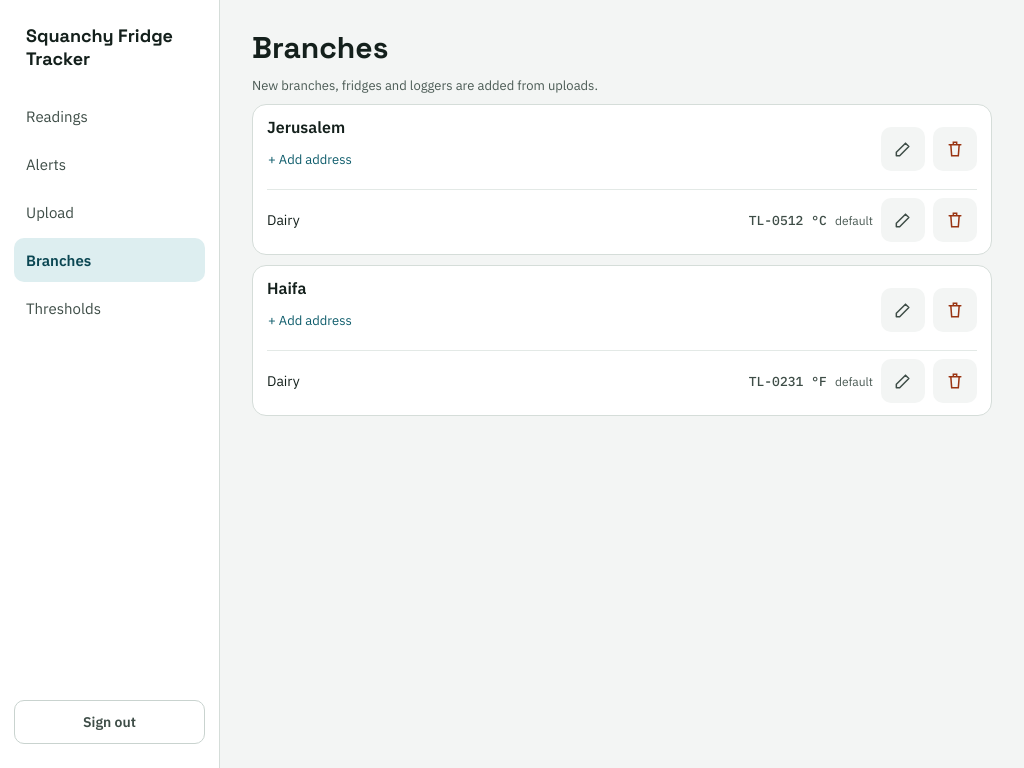
Test: BranchesPage delete branch › deletes after the user confirms and reloads the list
Click the button named "Delete Haifa" at (955, 310), box [933, 288, 977, 332]
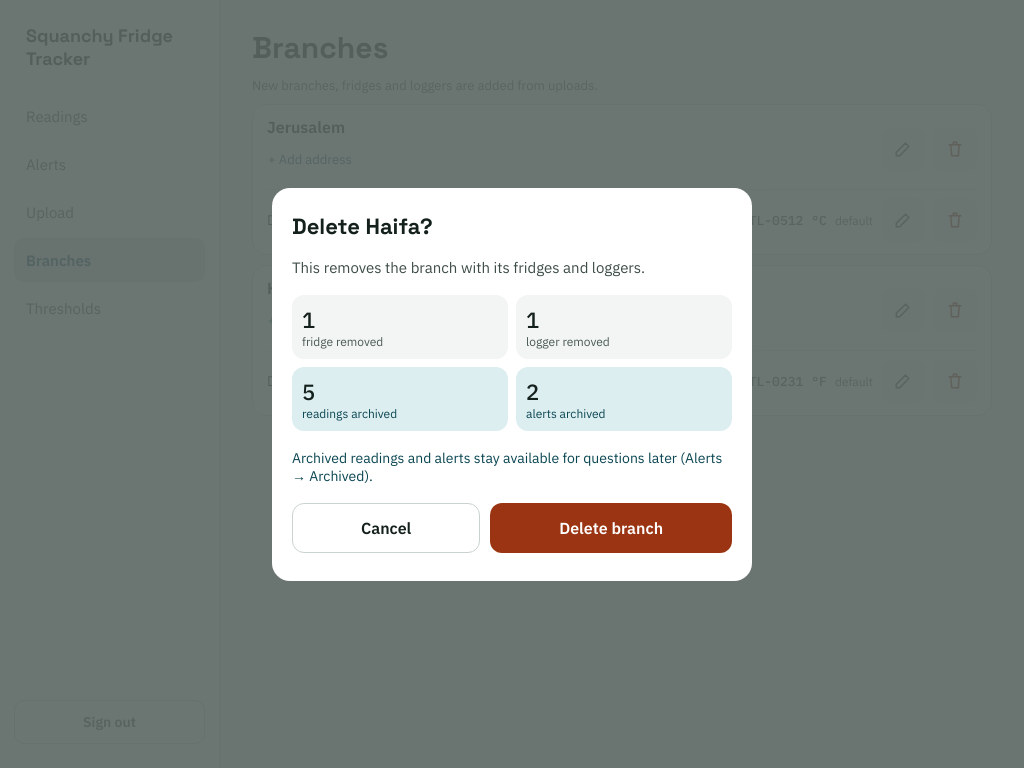
Click the button "Delete branch" at (611, 528), box [490, 502, 732, 552]
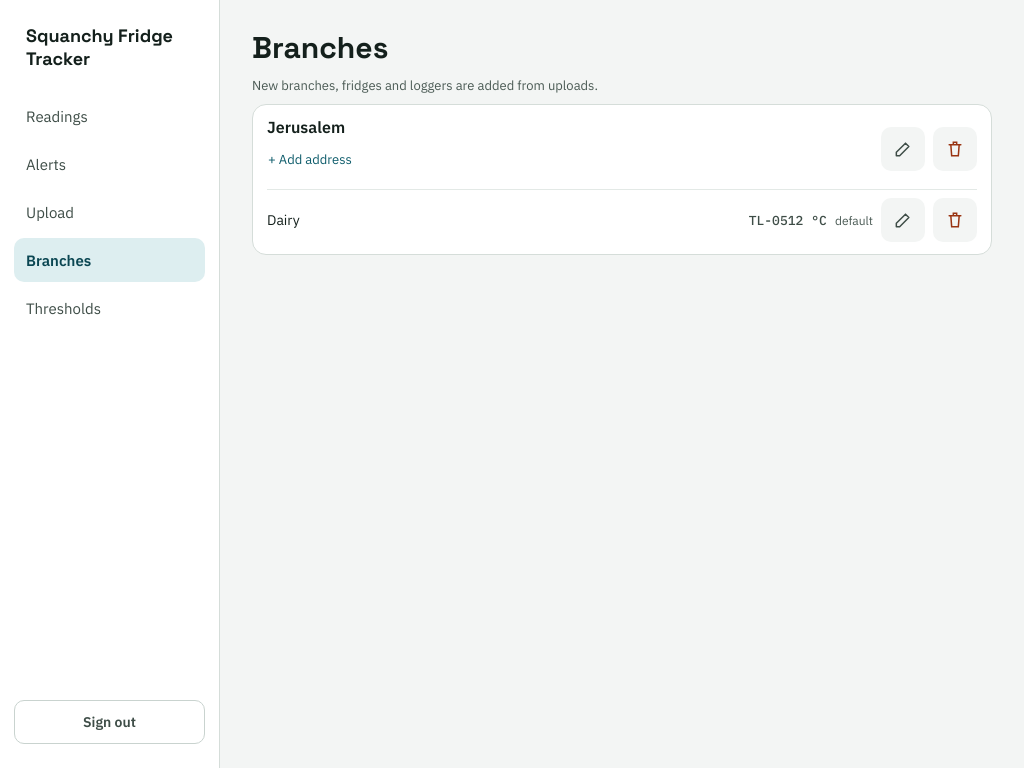
Result: the dialog is gone
